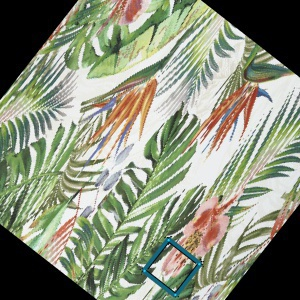square: (136, 234, 205, 298)
